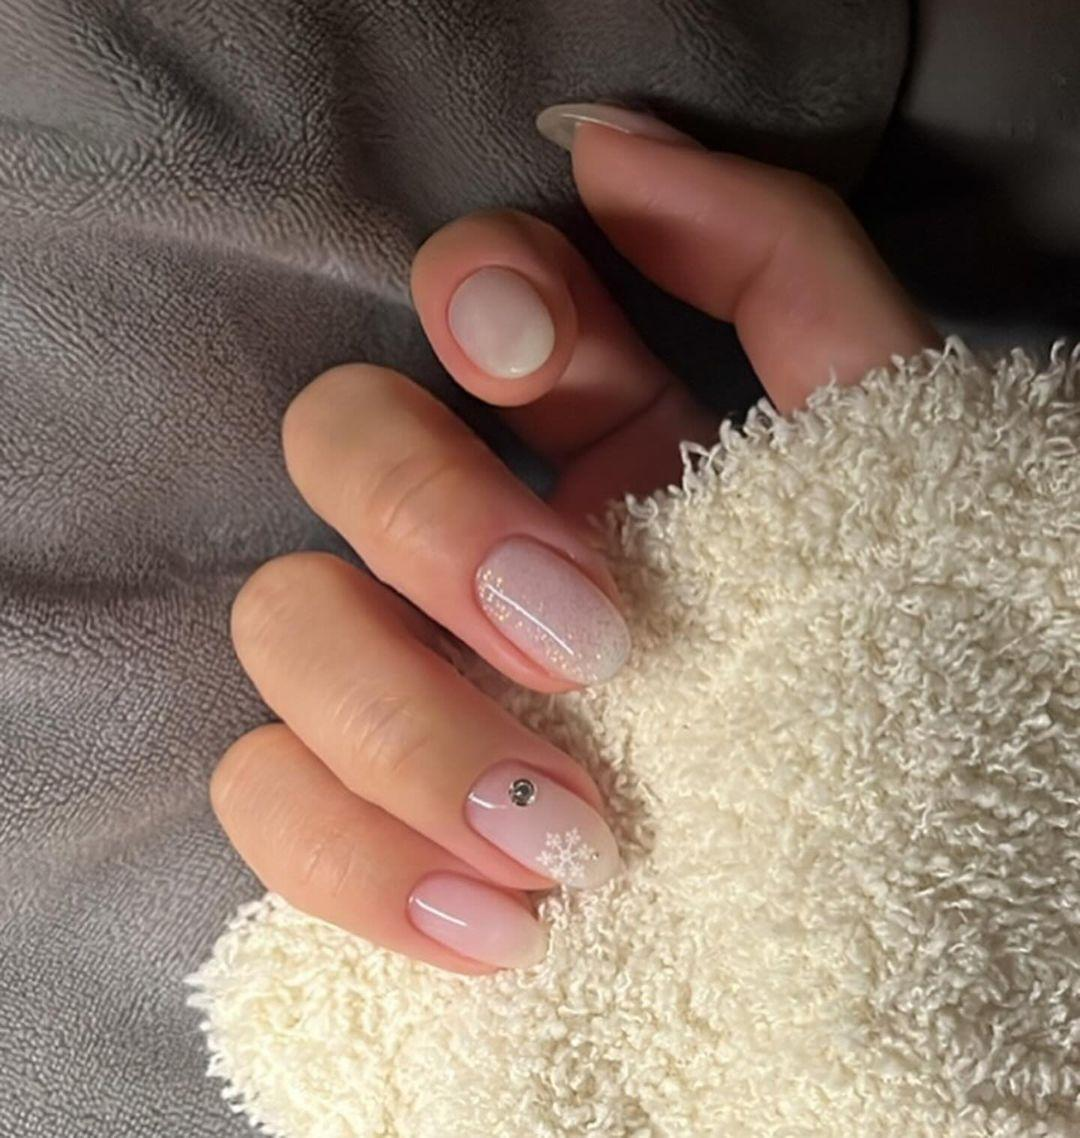nail: (408, 208, 579, 408), (471, 532, 632, 688), (461, 757, 622, 891), (404, 868, 550, 970)
